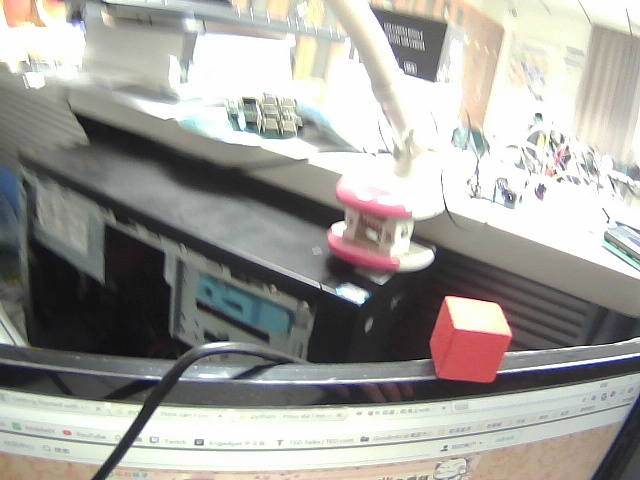redbox: (421, 292, 525, 397)
